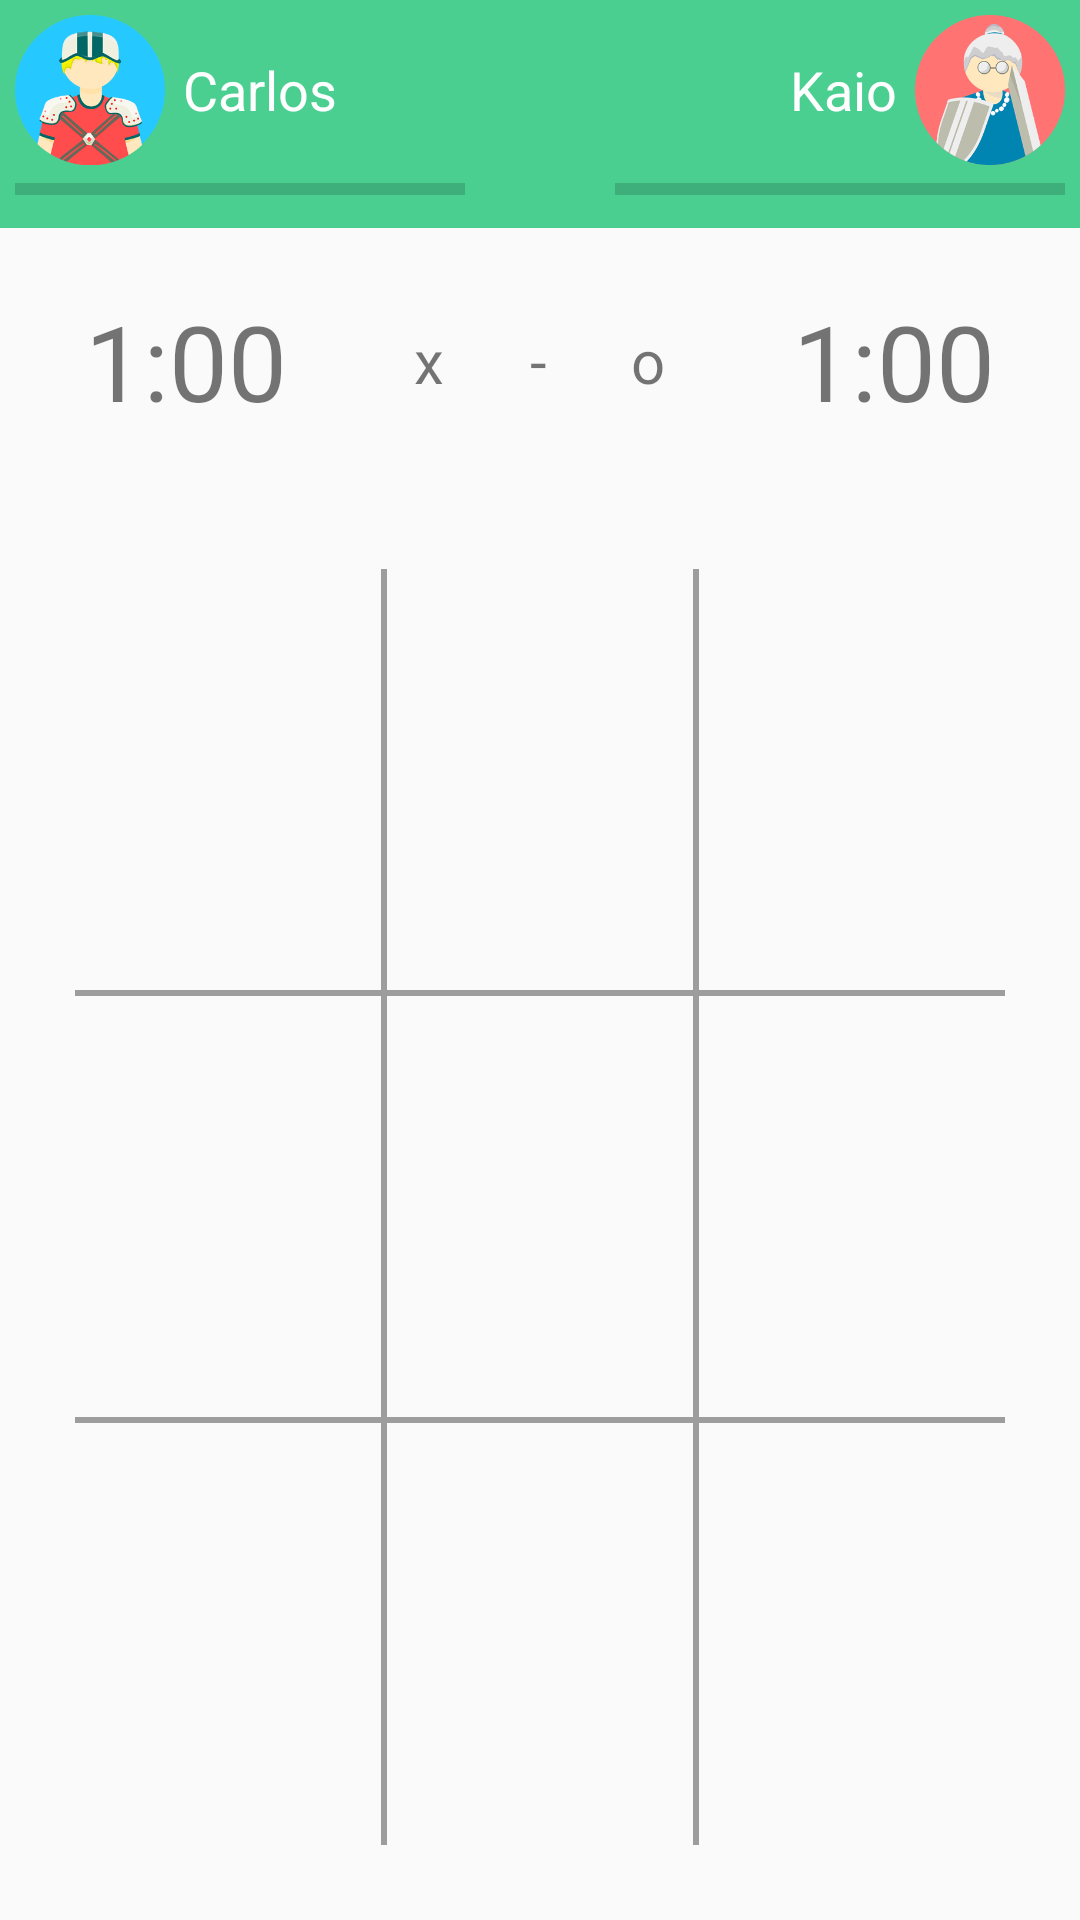

Icon bounding boxes for this 1080w x 1920h phone screenshot, format (x1, y1, x2, y2):
iconeloiro: (15, 15, 165, 165)
